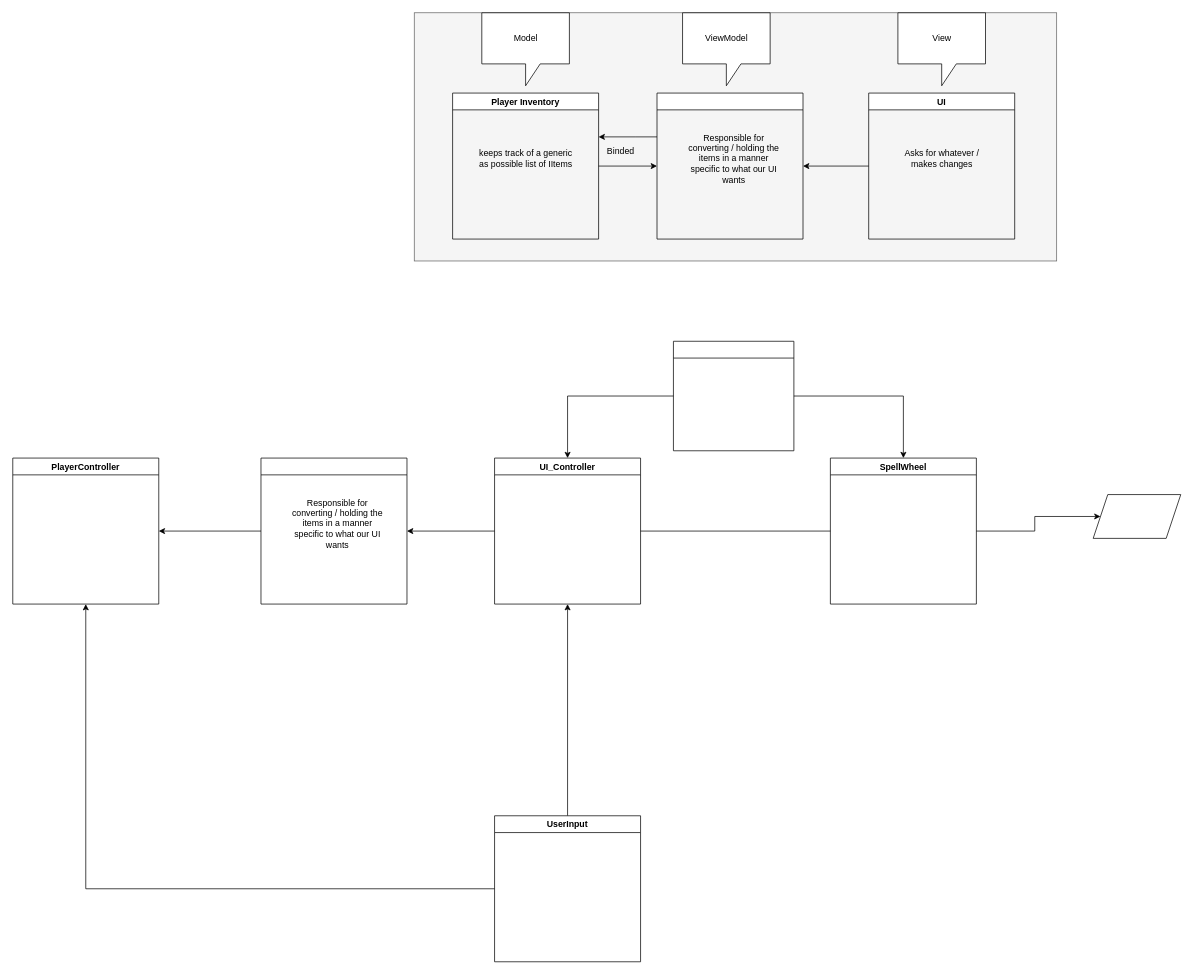
This 1194x975 diagram has some shape labels left out. Each missing label, with the box of its shape:
Selecting Spells: (1092, 494, 1181, 538)
UI_GardenController: (673, 341, 794, 451)
View Model: (656, 92, 803, 239)
VM: (260, 457, 407, 604)
